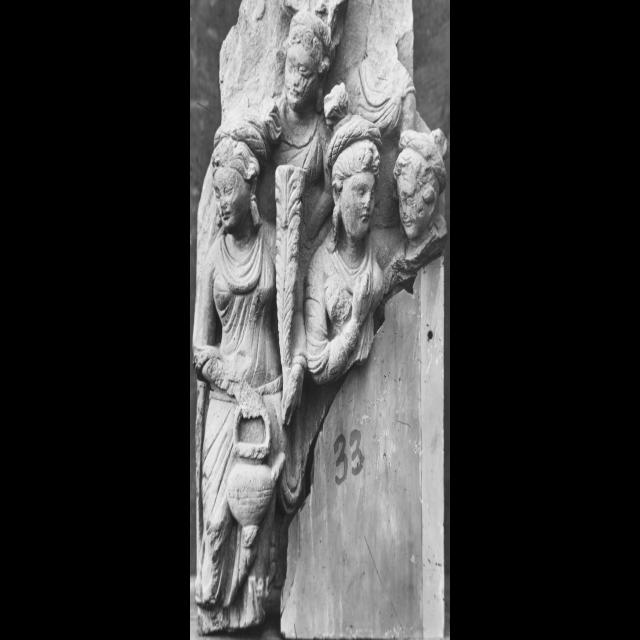buddha-standing: (298, 119, 398, 464)
